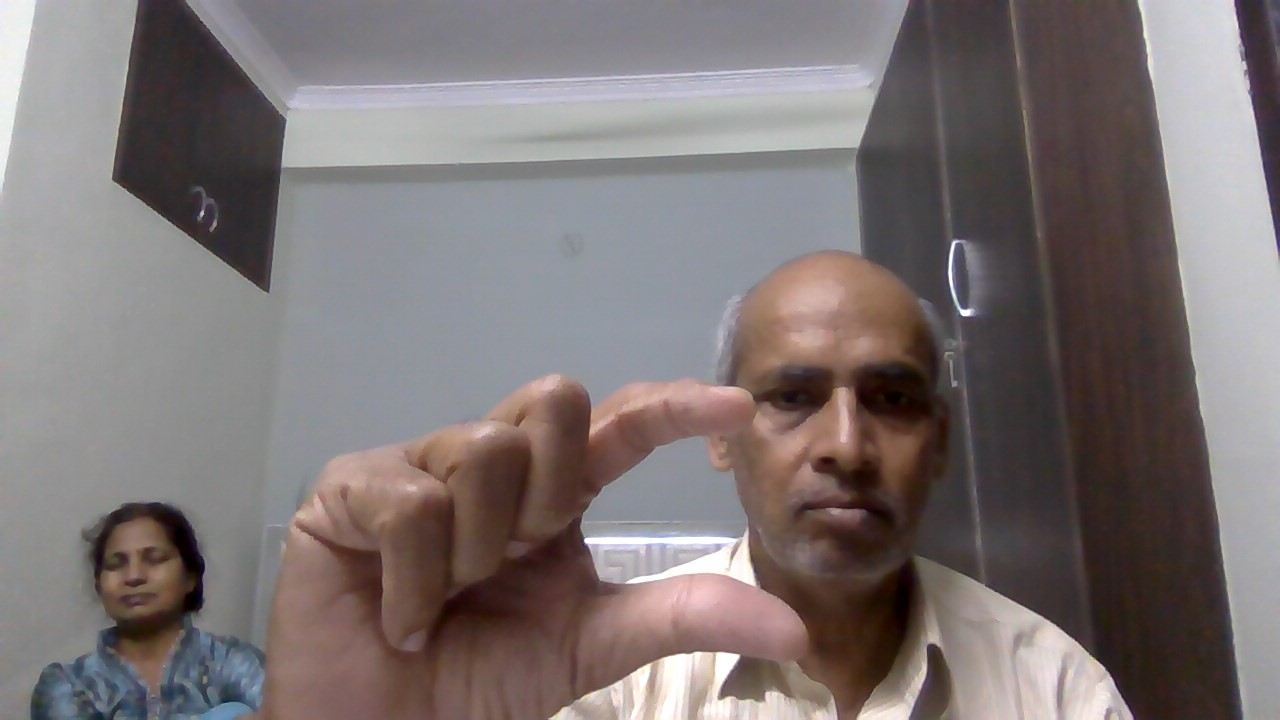Paste: (248, 363, 815, 715)
